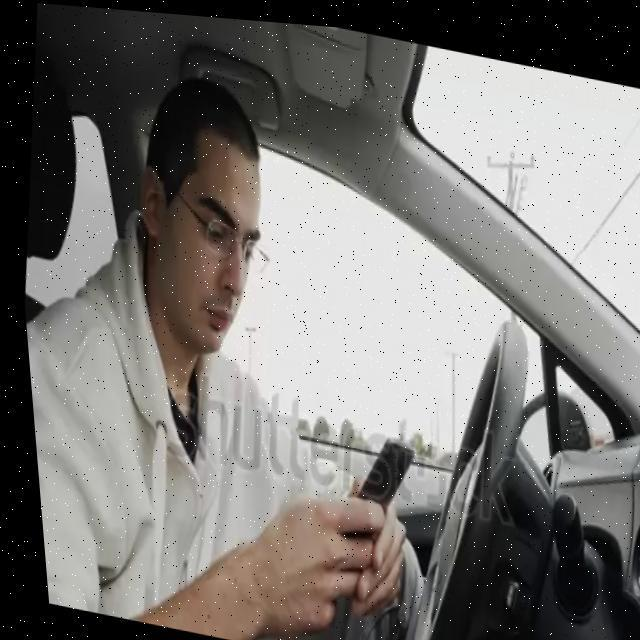PhoneCall: (346, 424, 410, 512)
